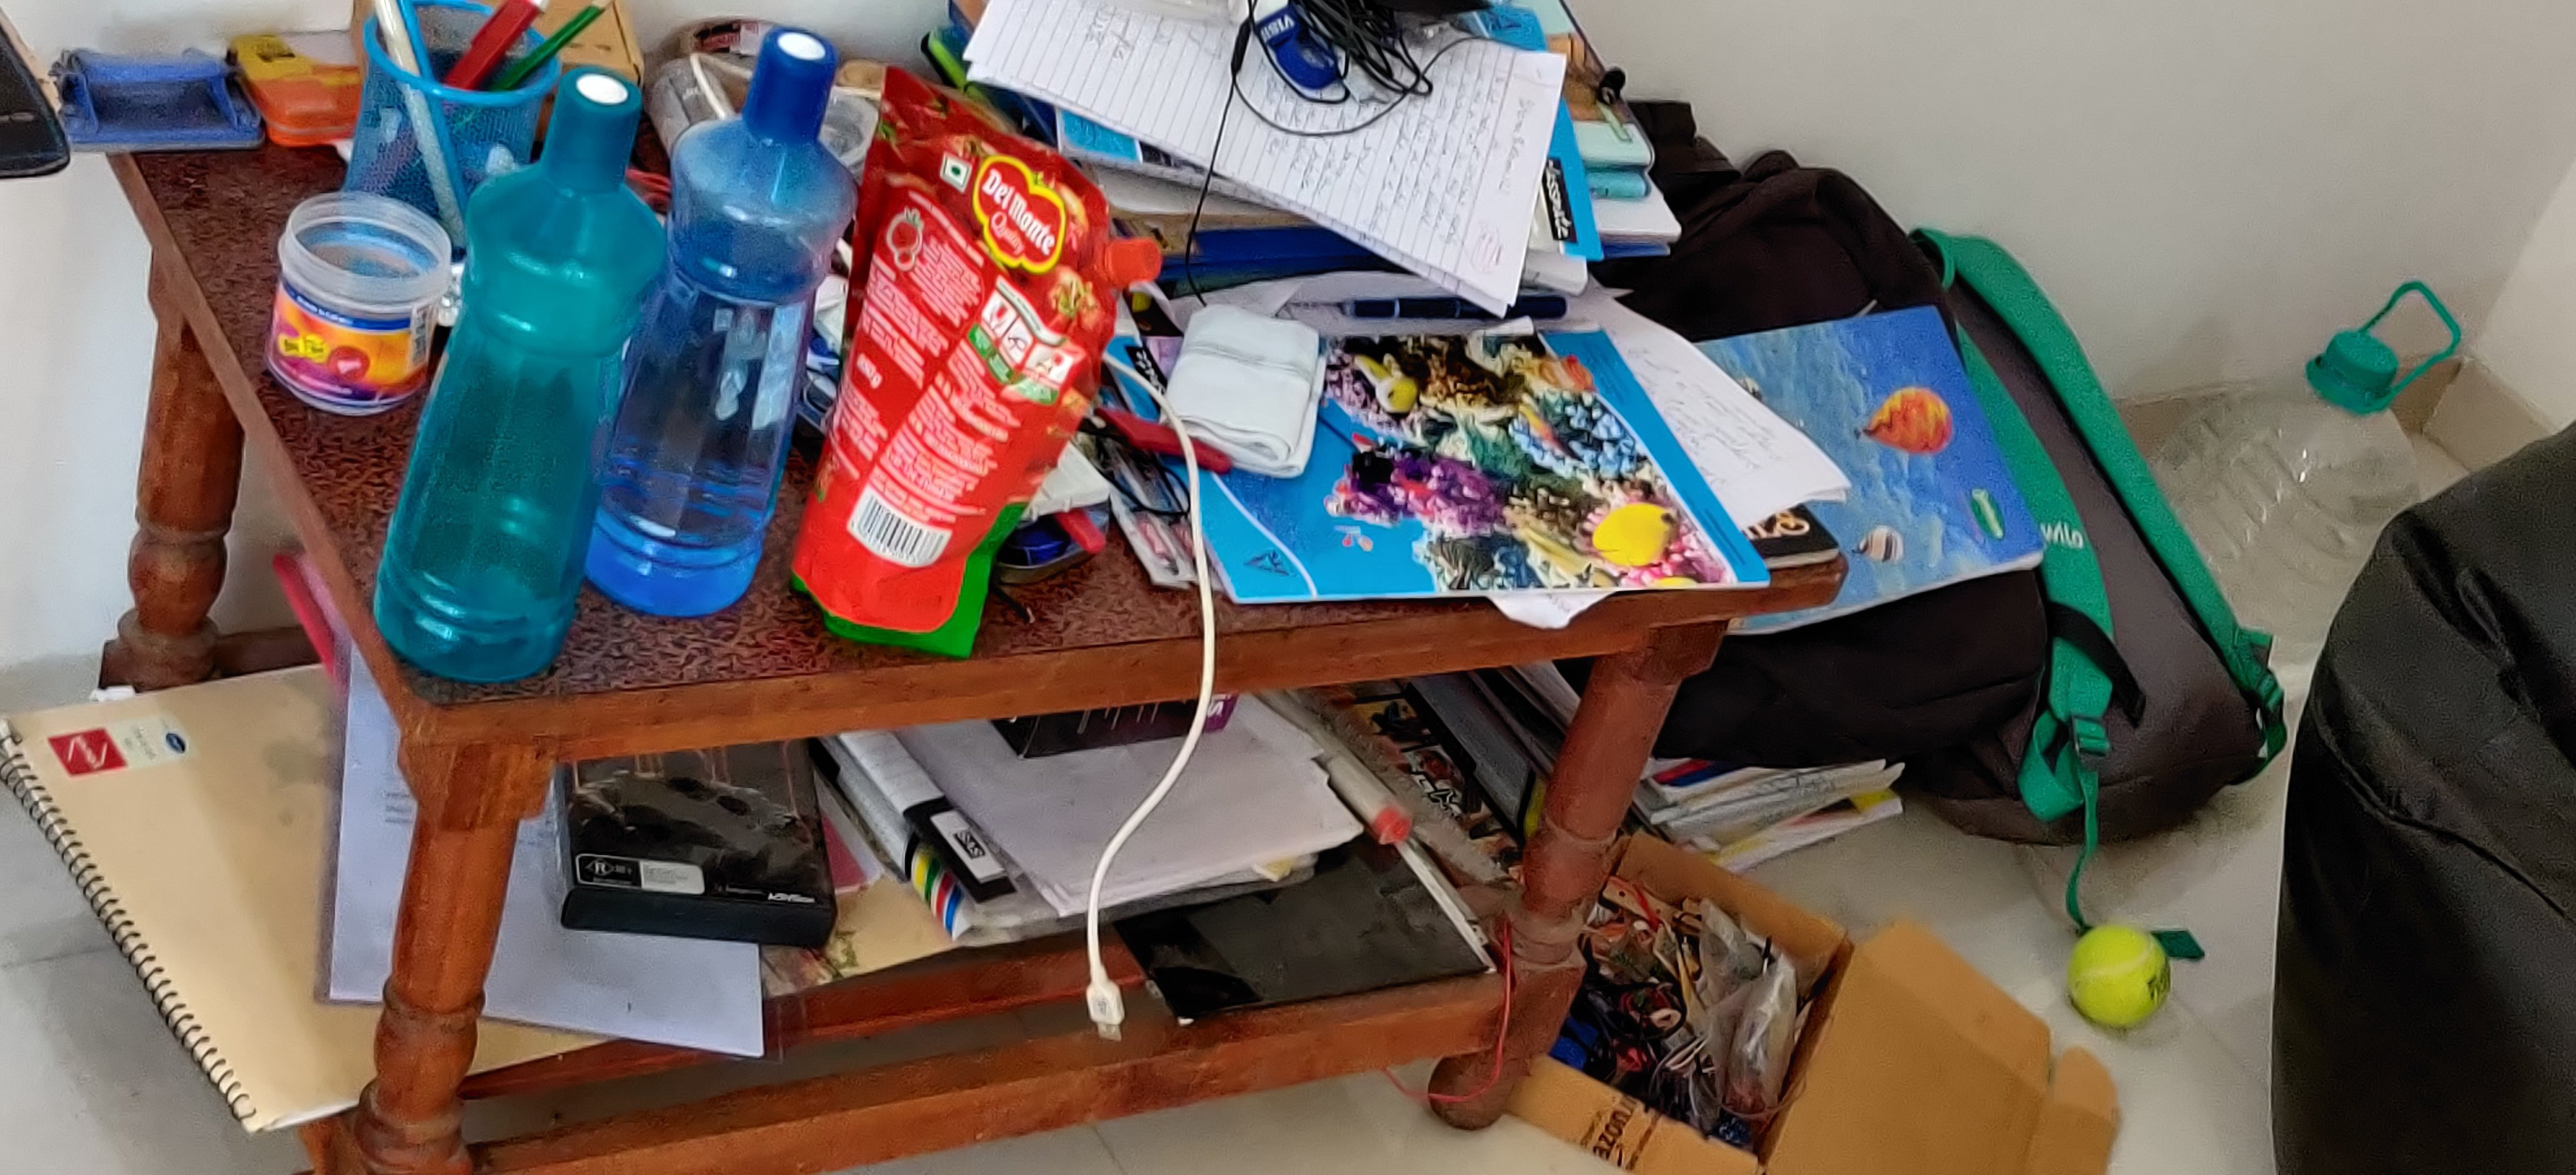Tennis-Ball: (2065, 925, 2172, 1029)
